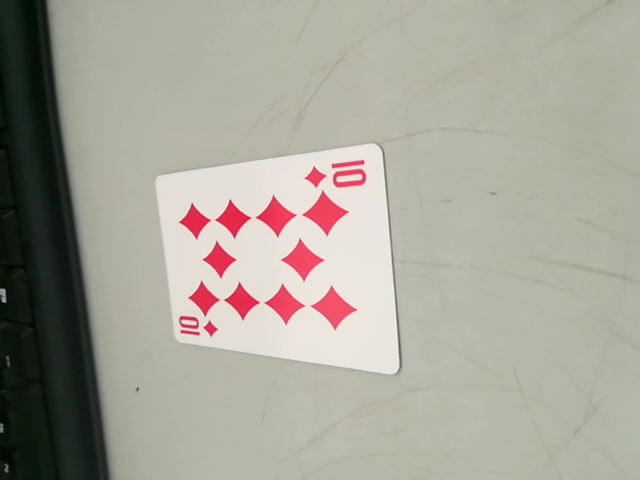fk 10: (303, 154, 372, 197), (172, 309, 225, 345)
